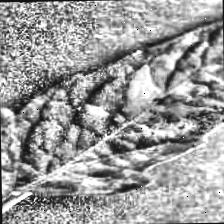leaf mold: (0, 3, 224, 215)
